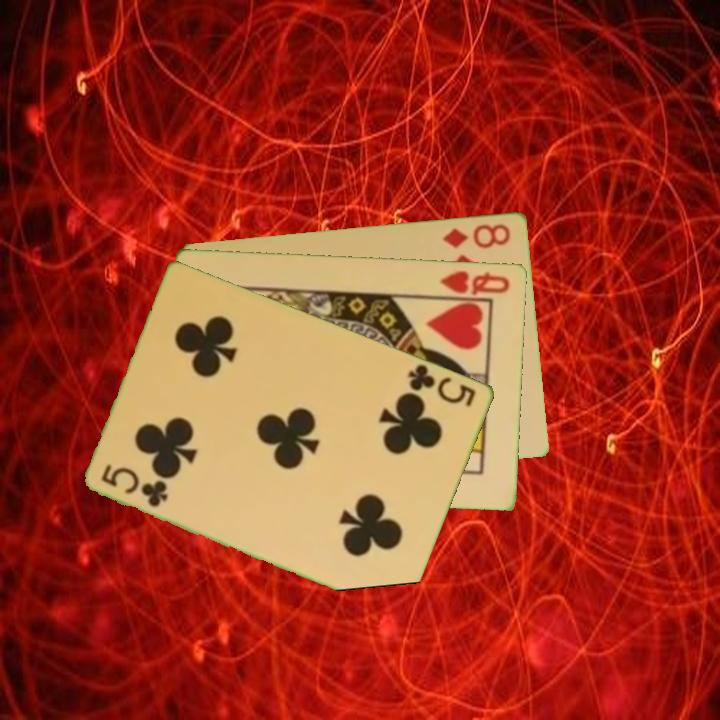5c: (405, 360, 480, 410), (98, 460, 171, 510)
8d: (439, 220, 514, 251)
Qh: (436, 266, 513, 298)
